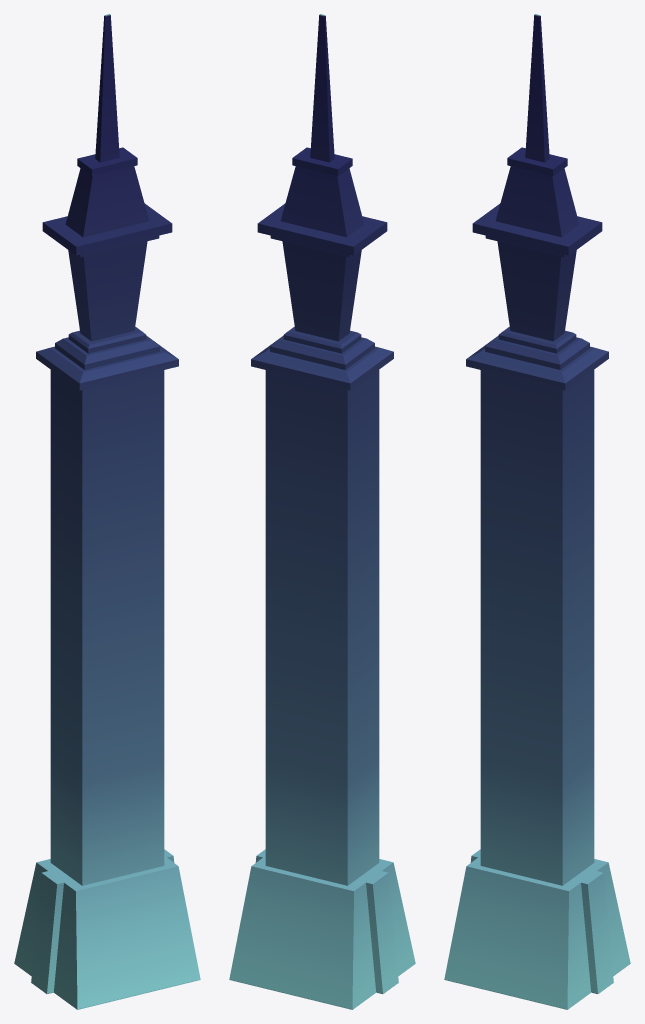
The model's file is towerCollider.fbx.
The picture shows the model from 3 angles, left to right: view 1: azimuth 30°, elevation 25°; view 2: azimuth 150°, elevation 25°; view 3: azimuth 330°, elevation 25°; orthographic projection.
Parts seen in each view (by area): view 1: TowerCollider; view 2: TowerCollider; view 3: TowerCollider.
Boxes of the visible parts, x1,y1,x2,y2 form: TowerCollider: (14, 14, 200, 1009); TowerCollider: (229, 14, 415, 1009); TowerCollider: (444, 14, 630, 1009).
Bounding box in the file's own units: 2000 × 13350 × 1600.
